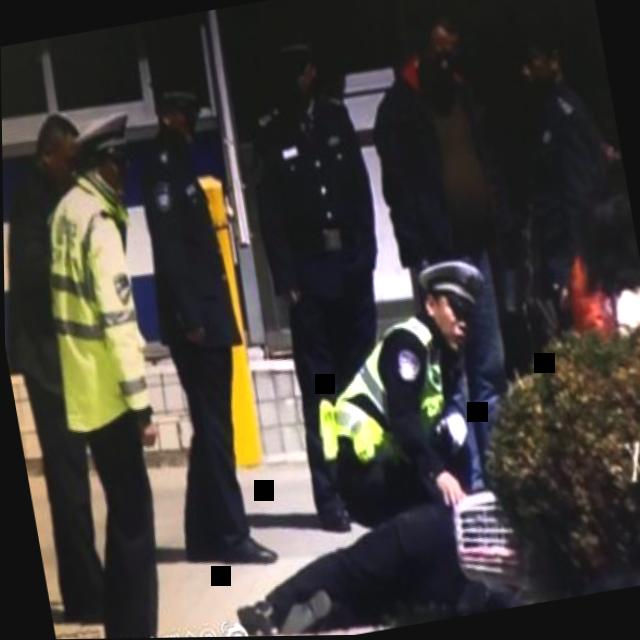Fall-Detected: (202, 430, 573, 638)
